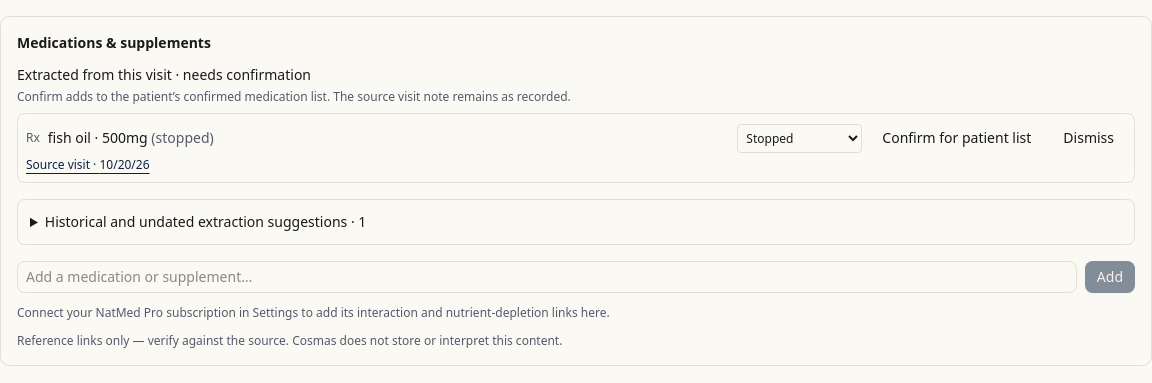
it: MedicationPanel › requires an explicit current-visit status correction before separate confirmation
Select "Held temporarily" in the dropdown named "Status for fish oil" at [800, 138], box left=737, top=124, right=862, bottom=152
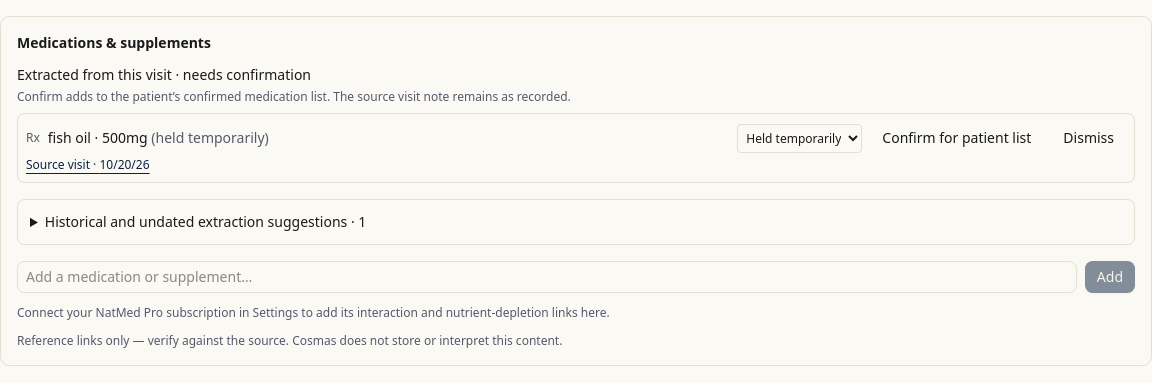
Expected: the dropdown named "Status for fish oil" shows "Held temporarily", left=737, top=124, right=862, bottom=152
Expected: the list item with test id "unconfirmed-medication" shows "held temporarily", left=148, top=128, right=269, bottom=147
Click the button "Confirm for patient list" at [957, 138], box left=870, top=122, right=1043, bottom=154
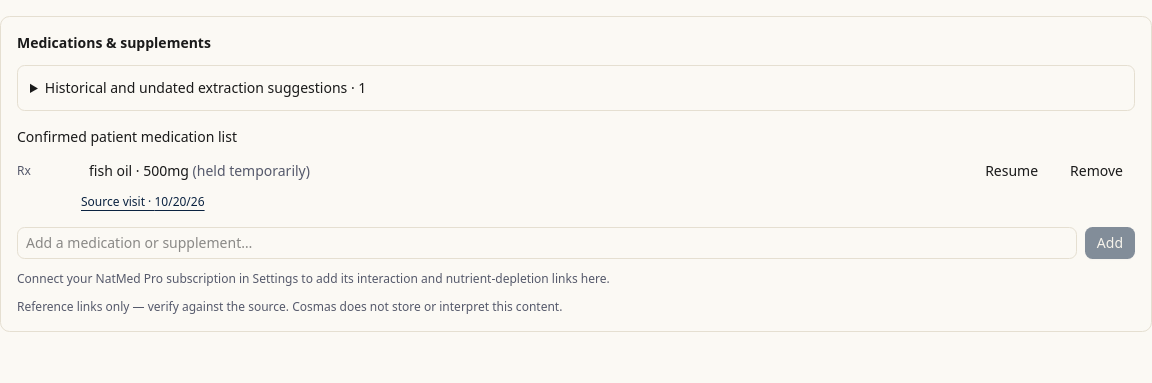
Expected: the list item with test id "confirmed-medication" is shown, left=17, top=155, right=1135, bottom=211
Expected: the list item with test id "confirmed-medication" shows "held temporarily", left=192, top=161, right=310, bottom=180
